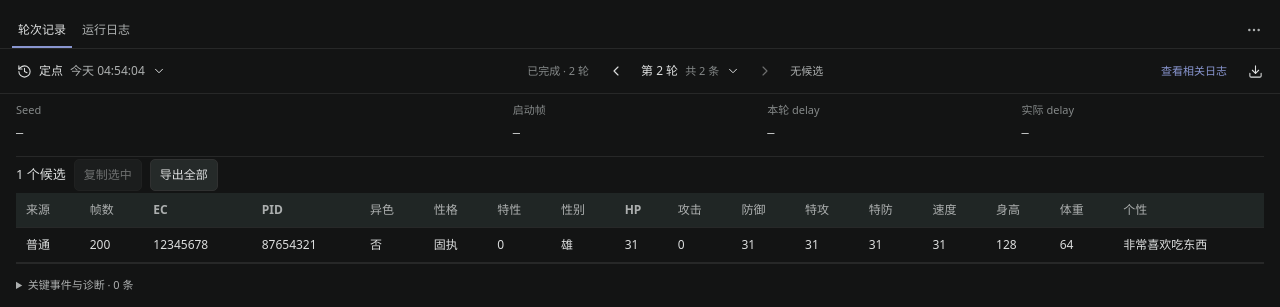
Test case: changing rounds resets candidate selection and scopes the log action to the displayed round
Click the cell "200": (112,244) [80,227,143,262]
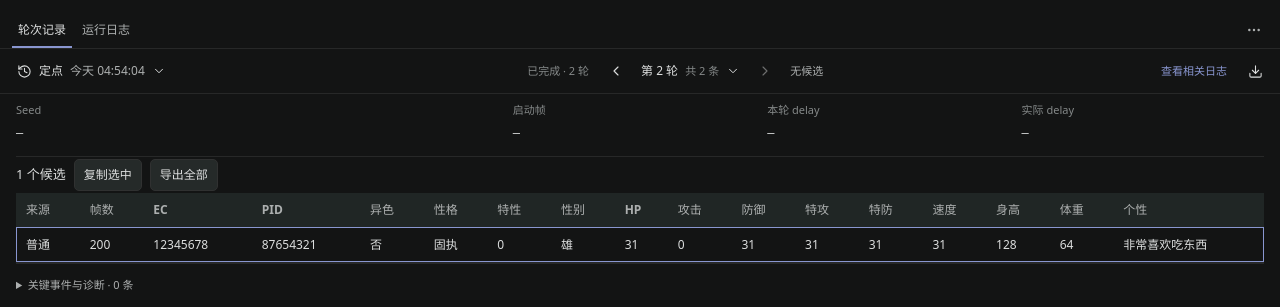
Check: the button "复制选中" is enabled, box [74,158,142,190]
Click the button named "上一轮": (616,71) [601,56,631,86]
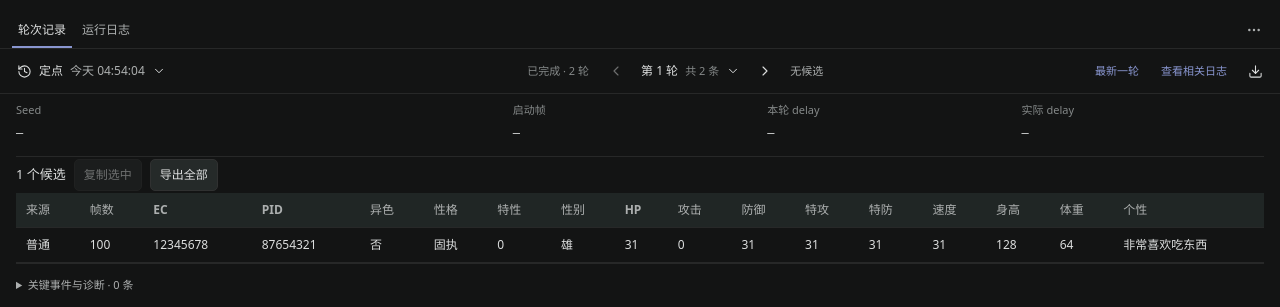
Check: the cell "100" is shown, box [80,227,143,262]
Check: the button "复制选中" is disabled, box [74,158,142,190]
Click the button "查看相关日志": (1194,71) [1152,56,1236,86]
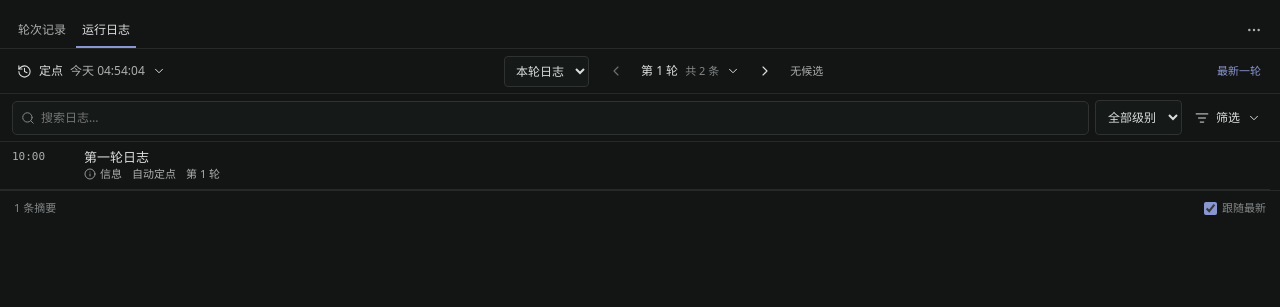
Check: the button "第一轮日志" is shown, box [84,148,1258,166]
